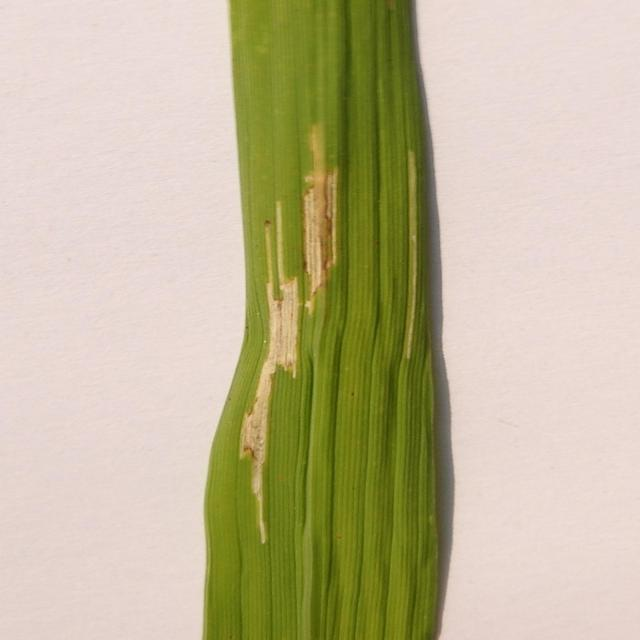leaf blight: (226, 143, 349, 552)
